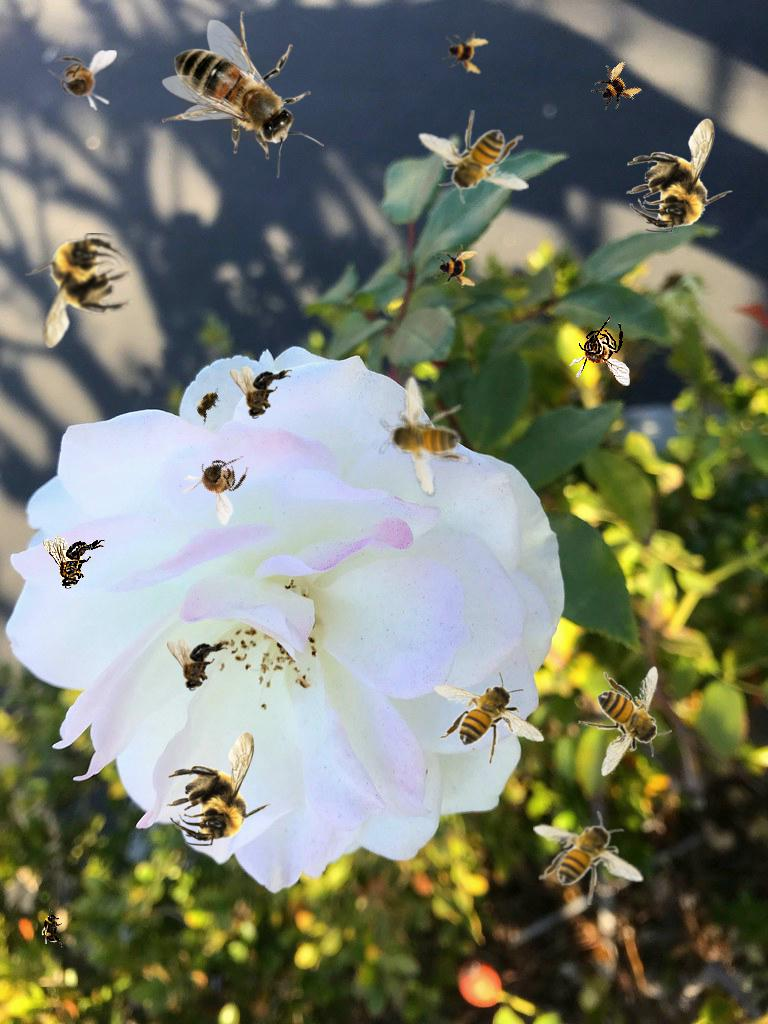Bee: (162, 11, 324, 178), (354, 360, 495, 506), (25, 233, 132, 348), (166, 731, 273, 846), (626, 118, 733, 233), (578, 666, 672, 777), (533, 811, 644, 905), (418, 110, 529, 204), (434, 671, 545, 765), (172, 435, 261, 527), (569, 316, 630, 386), (47, 50, 117, 111), (584, 55, 646, 117), (167, 638, 229, 691), (43, 536, 105, 589), (230, 366, 292, 419), (439, 25, 491, 77), (186, 381, 230, 427), (434, 244, 478, 288), (41, 908, 63, 948)
